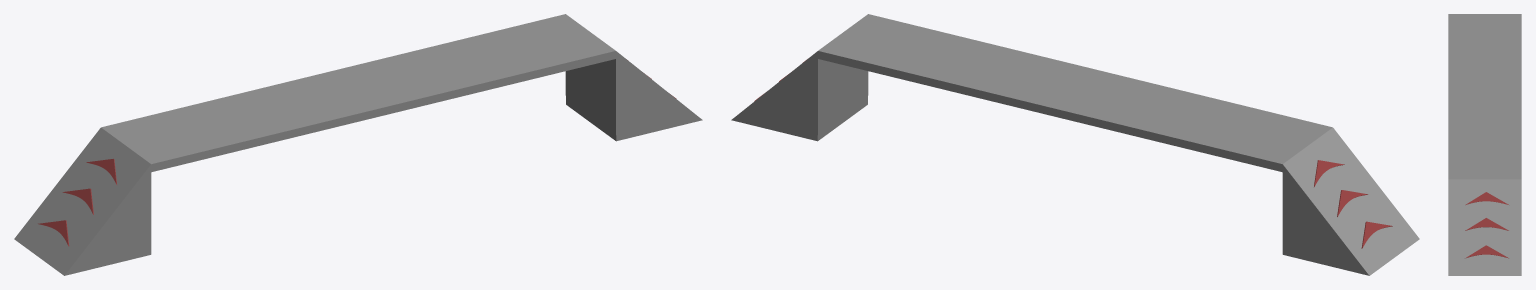
File: qiao07.fbx
3 views of the same model, side by side, from view 1: azimuth 30°, elevation 25°; view 2: azimuth 150°, elevation 25°; view 3: azimuth 270°, elevation 25° (orthographic). The views are drawn at different scales.
Visible parts, largest first — view 1: 对象007; view 2: 对象007; view 3: 对象007.
Part boxes in pixels (x1=…): 对象007: x1=14, y1=14, x2=702, y2=275; 对象007: x1=731, y1=14, x2=1419, y2=275; 对象007: x1=1448, y1=14, x2=1521, y2=275.
Bounding box in the file's own units: 2426 × 329 × 331.
